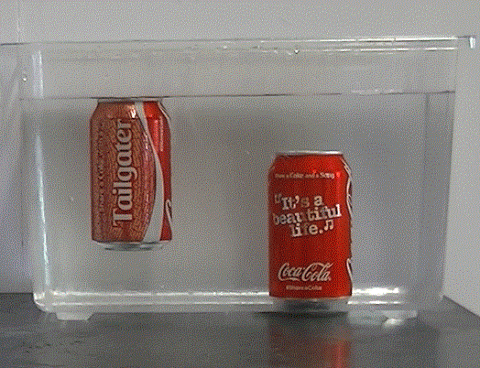Can: (250, 133, 366, 307), (84, 84, 182, 259)
